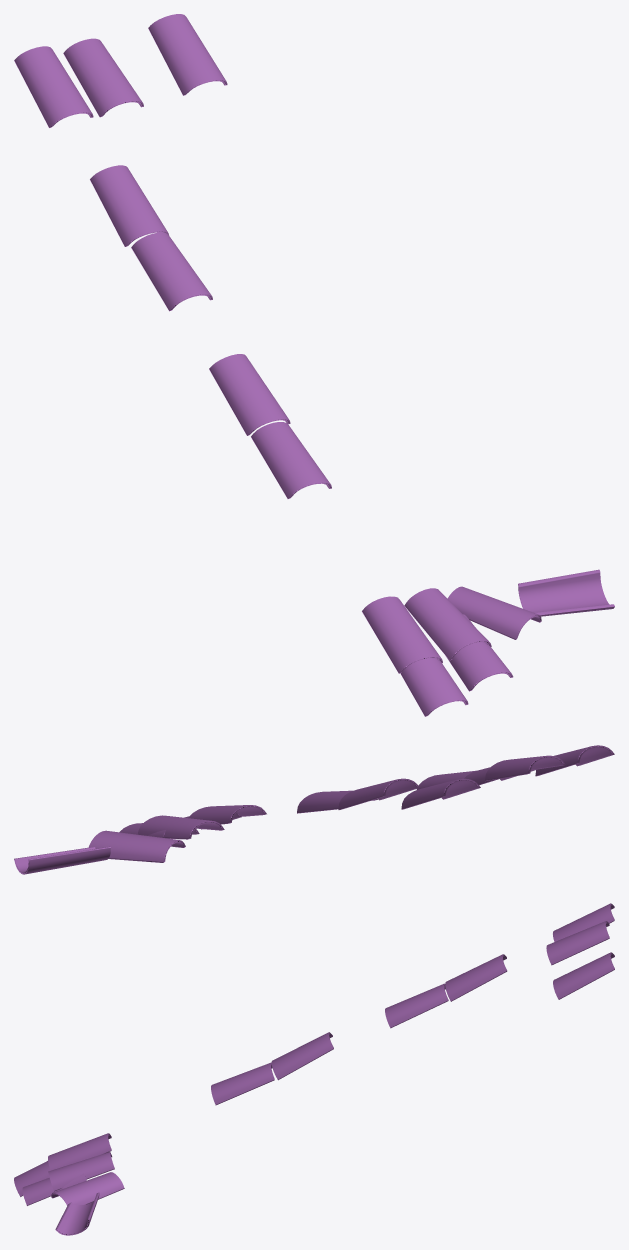
Rendered from Roof_Break_Tile_Lod0.fbx.
The picture shows the model from 3 angles, top to bottom: view 1: azimuth 30°, elevation 25°; view 2: azimuth 210°, elevation 25°; view 3: azimuth 270°, elevation 25°; orthographic projection. The views are drawn at different scales.
Visible parts, largest first — view 1: Roof_Break_Tile_Lod0; view 2: Roof_Break_Tile_Lod0; view 3: Roof_Break_Tile_Lod0.
Part boxes in pixels (x1,y1,x2,y2): Roof_Break_Tile_Lod0: (14,14,614,716); Roof_Break_Tile_Lod0: (14,745,614,874); Roof_Break_Tile_Lod0: (14,903,614,1235).
Size of the model in its own units: 216 by 330 by 644.
